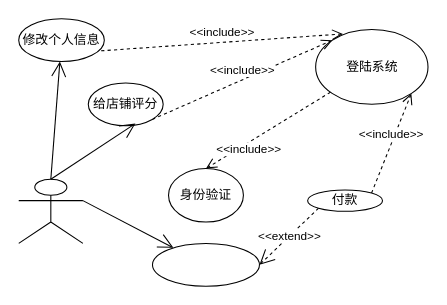
This 447x305 diagram has some shape labels left out. Here are the shapes that lost their labels. From the top down, the centre of each, then its label:
At [50,210]: "用户".
At [205,264]: "充值购物金".
